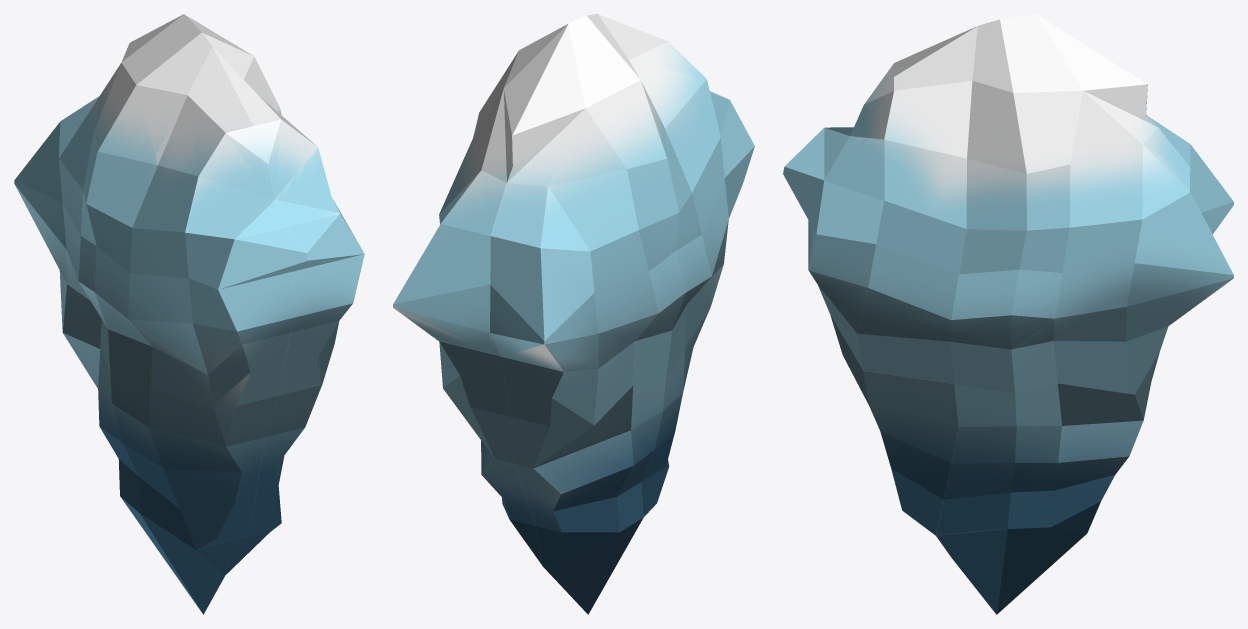
The model's file is iceBerg3D.fbx.
3 views of the same model, side by side, from view 1: azimuth 30°, elevation 25°; view 2: azimuth 150°, elevation 25°; view 3: azimuth 270°, elevation 25° (orthographic). The views are drawn at different scales.
Visible parts, largest first — view 1: iceberg.001; view 2: iceberg.001; view 3: iceberg.001.
Boxes of the visible parts, x1,y1,x2,y2 form: iceberg.001: (14,14,364,614); iceberg.001: (393,14,754,614); iceberg.001: (783,14,1233,614).
Bounding box in the file's own units: 33.68 × 92.13 × 62.66.
